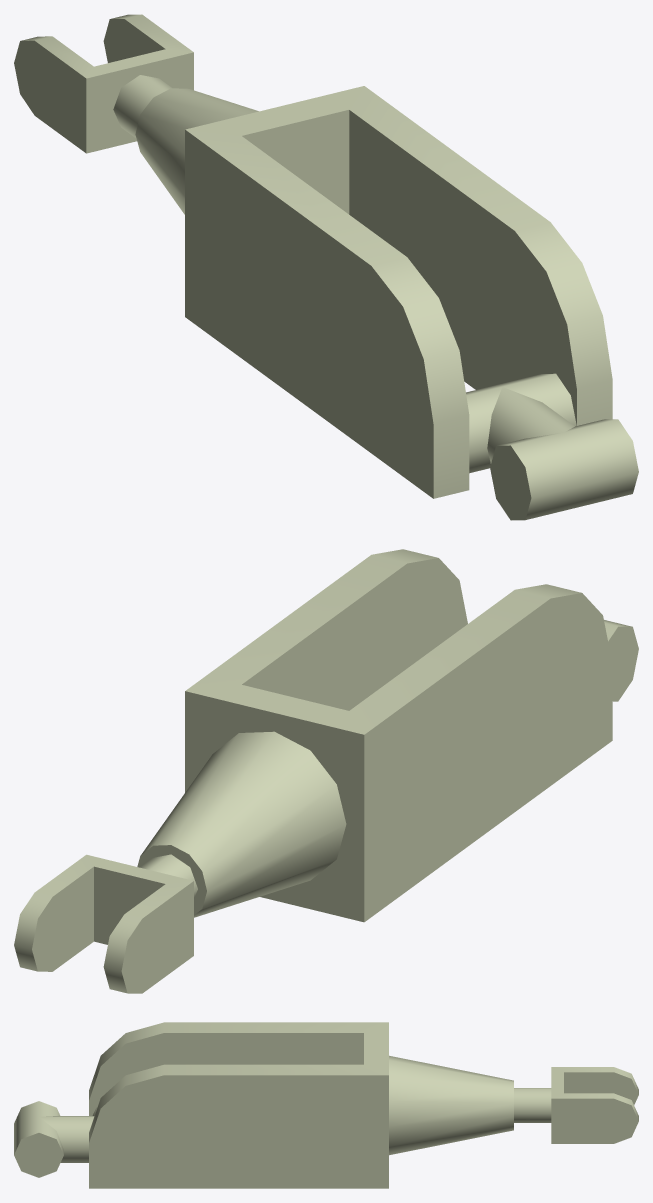
Rendered from octans_basic_high_gain_antenna_srf_1_neck.obj.
3 views of the same model, one above another, from view 1: azimuth 30°, elevation 25°; view 2: azimuth 150°, elevation 25°; view 3: azimuth 270°, elevation 25° (orthographic). The views are drawn at different scales.
Visible parts, largest first — view 1: mesh; view 2: mesh; view 3: mesh.
Part boxes in pixels (<box>): mesh: <box>14,14,638,520</box>; mesh: <box>14,549,638,993</box>; mesh: <box>14,1022,638,1188</box>.
Bounding box in the file's own units: 0.125 × 0.125 × 0.625.
